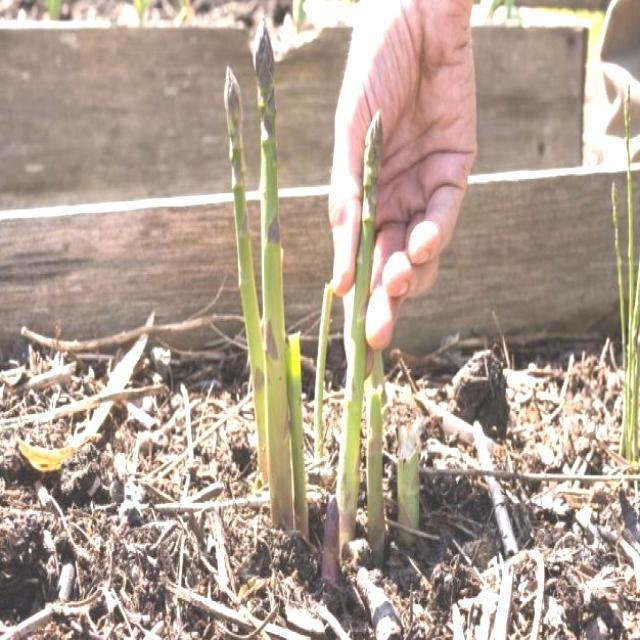aspargus: (225, 17, 305, 534)
